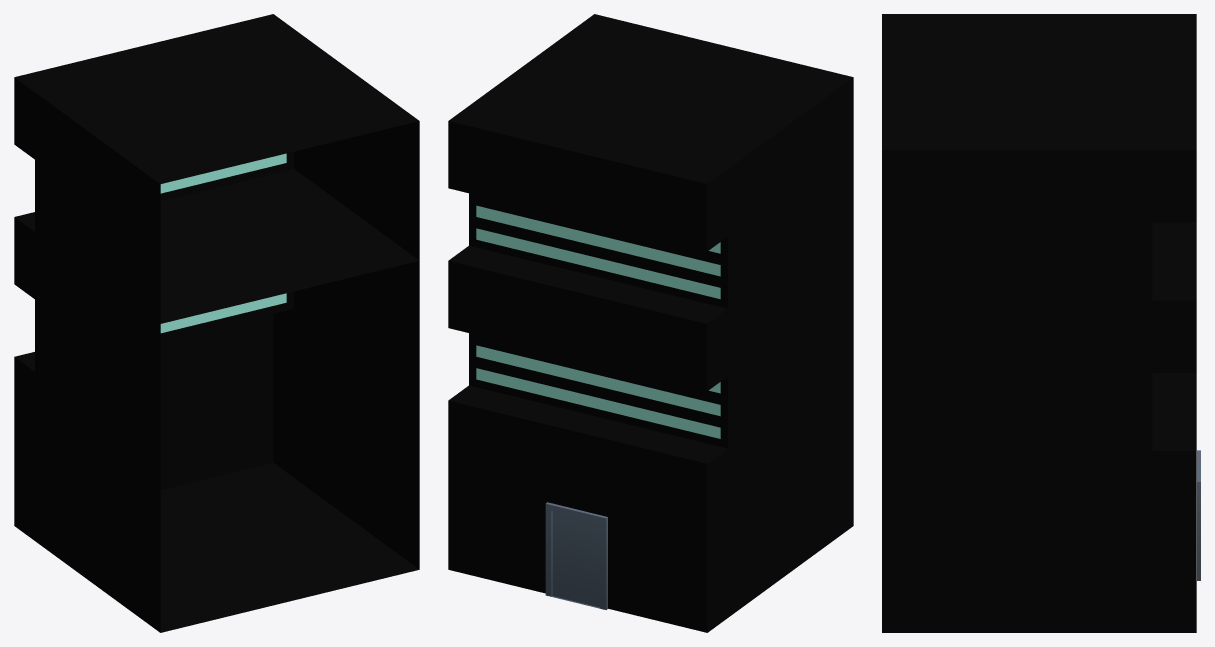
The model's file is Comercio_Edificio_09.FBX.
3 renders of one model, left to right at view 1: azimuth 30°, elevation 25°; view 2: azimuth 150°, elevation 25°; view 3: azimuth 270°, elevation 25°, orthographic. The views are drawn at different scales.
Parts seen in each view (by area): view 1: Comercio_Edificio_09; view 2: Comercio_Edificio_09; view 3: Comercio_Edificio_09.
Boxes of the visible parts, box(x1,y1,x2,y2) form: Comercio_Edificio_09: box(14, 14, 419, 632); Comercio_Edificio_09: box(448, 14, 853, 632); Comercio_Edificio_09: box(882, 14, 1200, 632).
Bounding box in the file's own units: 791 × 783 × 1309.
